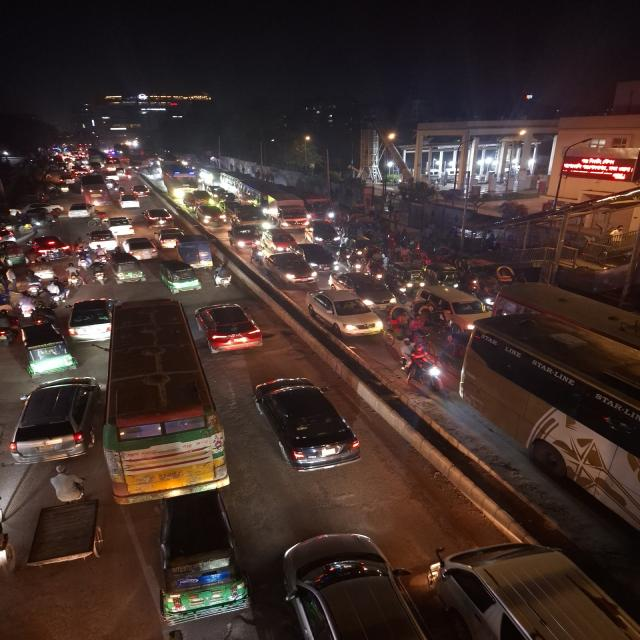bicycle: (86, 208, 110, 227)
bus: (463, 326, 640, 515), (101, 300, 210, 497), (224, 175, 270, 202), (165, 167, 193, 196), (80, 182, 109, 207), (308, 195, 334, 221)
car: (424, 530, 619, 640), (274, 533, 409, 635), (243, 372, 367, 476), (12, 370, 99, 466), (307, 288, 387, 346), (194, 297, 260, 365), (70, 298, 111, 342), (438, 292, 489, 327), (334, 274, 388, 306), (274, 256, 317, 286), (296, 244, 336, 271), (123, 236, 159, 262), (139, 206, 179, 226), (310, 222, 340, 248), (37, 237, 66, 262), (154, 228, 183, 252), (197, 205, 225, 228), (264, 230, 294, 250), (104, 217, 134, 234), (64, 200, 92, 218), (117, 195, 141, 210), (131, 185, 155, 200)
cng: (136, 492, 248, 628), (14, 325, 72, 380), (158, 259, 198, 294), (112, 256, 144, 284), (400, 263, 426, 294), (431, 264, 460, 287)
motorcycle: (392, 337, 446, 395), (21, 269, 43, 302), (209, 265, 235, 292), (86, 260, 112, 286), (48, 278, 69, 306), (64, 263, 84, 290), (71, 243, 92, 267), (343, 254, 364, 274), (250, 242, 265, 268), (96, 244, 110, 269), (336, 246, 351, 268), (367, 261, 385, 279), (124, 171, 133, 182), (117, 186, 125, 196)
pedestrian: (6, 267, 19, 293)
pickup_van: (230, 224, 258, 250)
rickshaw: (12, 478, 110, 585), (389, 306, 427, 342)
truck: (271, 196, 307, 231), (176, 236, 216, 266), (230, 204, 266, 228)
